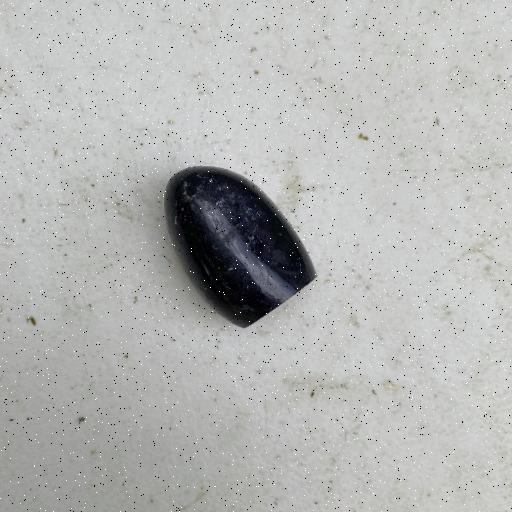Plastic: (161, 163, 319, 329)
